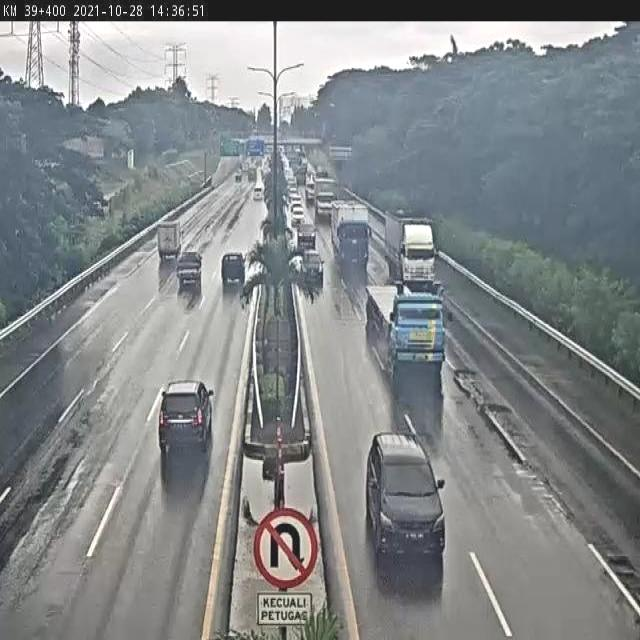Car: (364, 432, 445, 580), (157, 381, 213, 473), (176, 250, 203, 292), (221, 252, 245, 294), (302, 249, 324, 289), (286, 177, 297, 201), (290, 191, 302, 211)
Truck: (371, 280, 452, 372), (384, 210, 438, 290), (329, 199, 367, 271), (156, 220, 182, 261), (296, 222, 317, 254), (305, 171, 316, 203), (261, 161, 272, 191), (298, 153, 307, 174), (247, 163, 257, 181), (264, 154, 272, 171), (295, 146, 304, 160), (282, 190, 289, 208), (242, 160, 249, 177)
